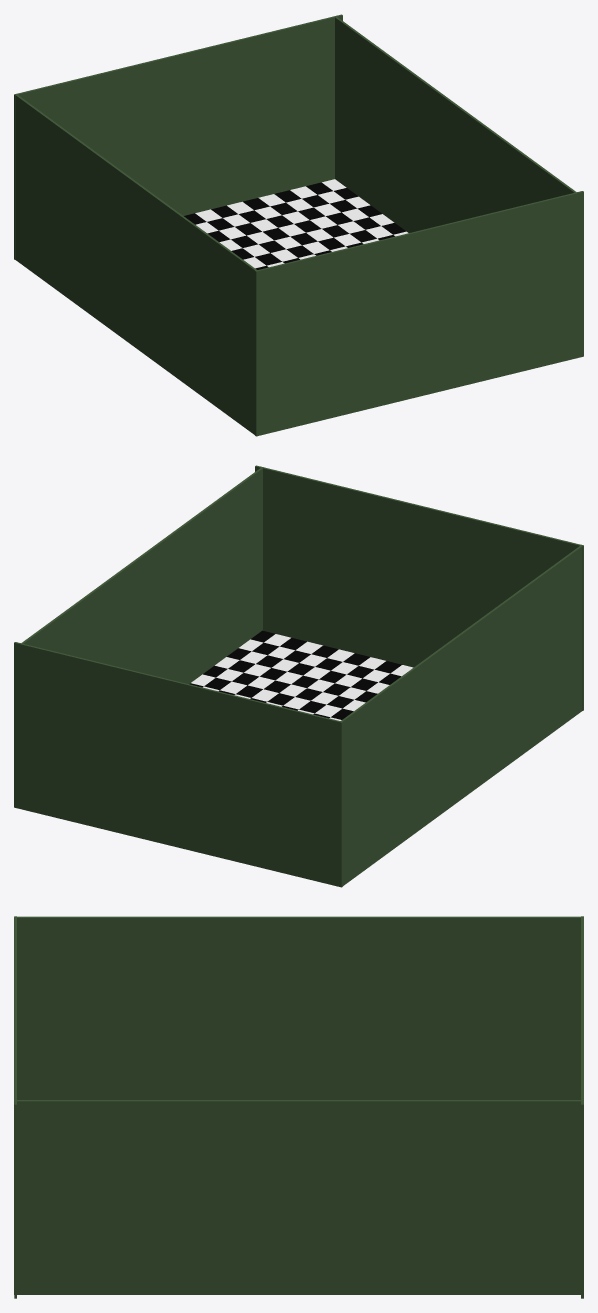
Rendered from stage_2.fbx.
The picture shows the model from 3 angles, top to bottom: view 1: azimuth 30°, elevation 25°; view 2: azimuth 150°, elevation 25°; view 3: azimuth 270°, elevation 25°; orthographic projection. The views are drawn at different scales.
Parts seen in each view (by area): view 1: pPlane2; view 2: pPlane2; view 3: pPlane2.
Part boxes in pixels (x1=…): pPlane2: x1=14, y1=14, x2=583, y2=436; pPlane2: x1=14, y1=465, x2=583, y2=887; pPlane2: x1=14, y1=916, x2=583, y2=1298.
Size of the model in its own units: 4089 by 1965 by 5235.
